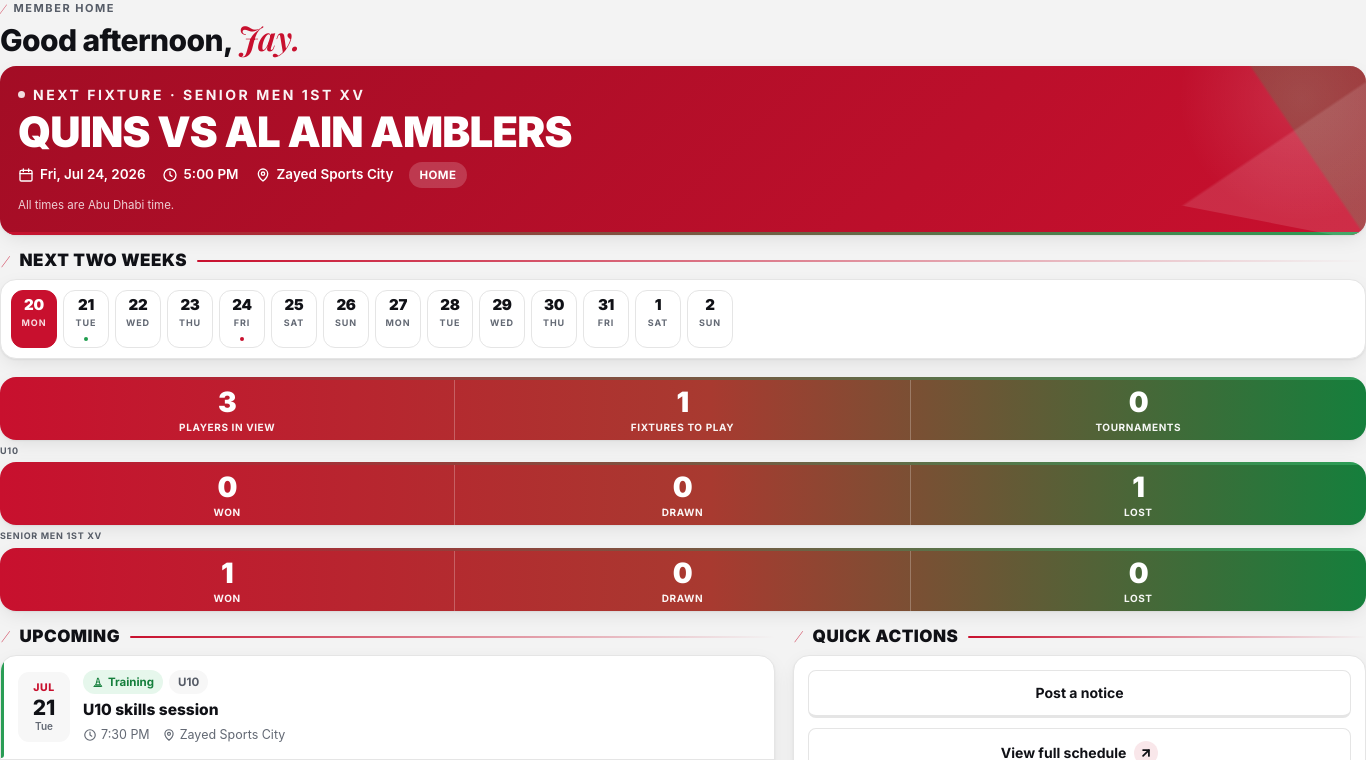
Dashboard — upcoming list and last result › still opens a lone event directly from the strip, without the chooser
// 21 July holds only the U10 training.
Click the button with aria-label "Tue 21, 1 event": point(86, 319) [63,290,109,348]
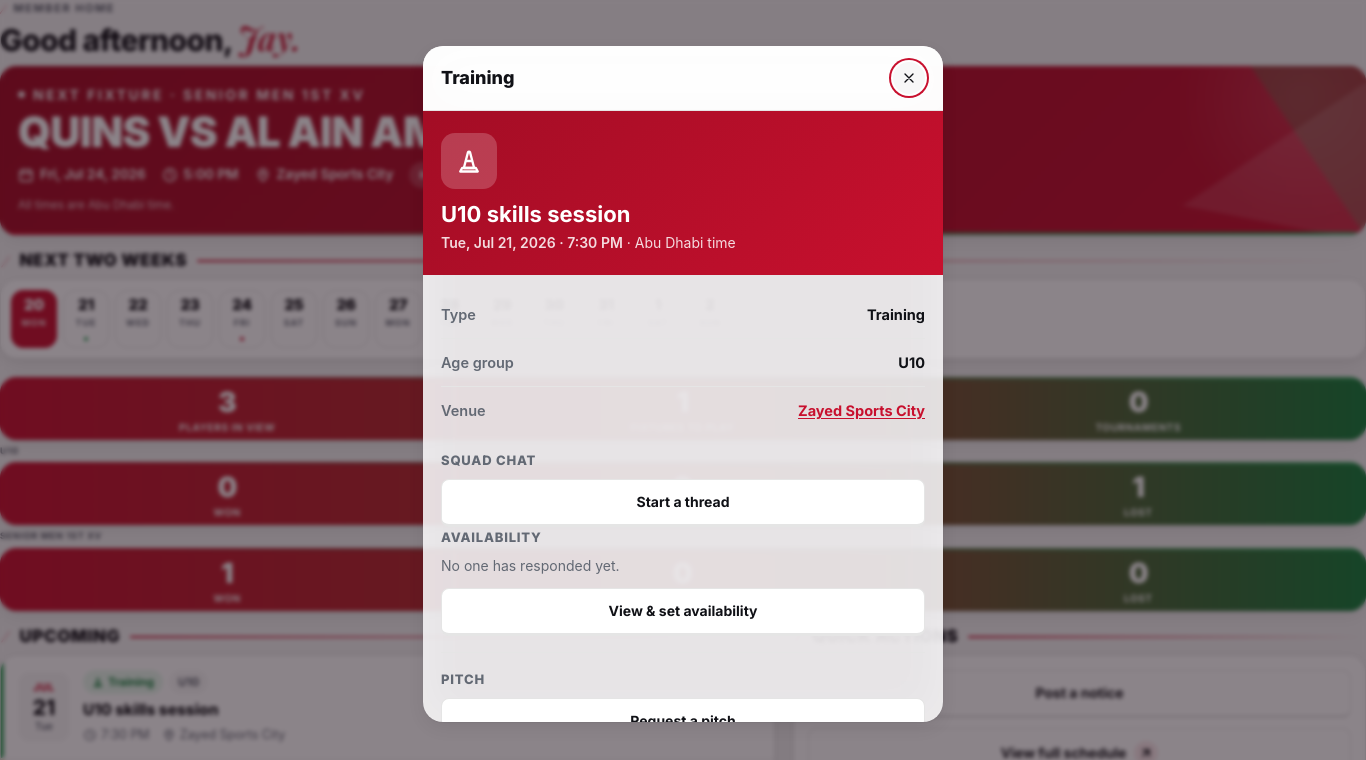
Result: the heading "U10 skills session" is shown at [441,201,630,227]
